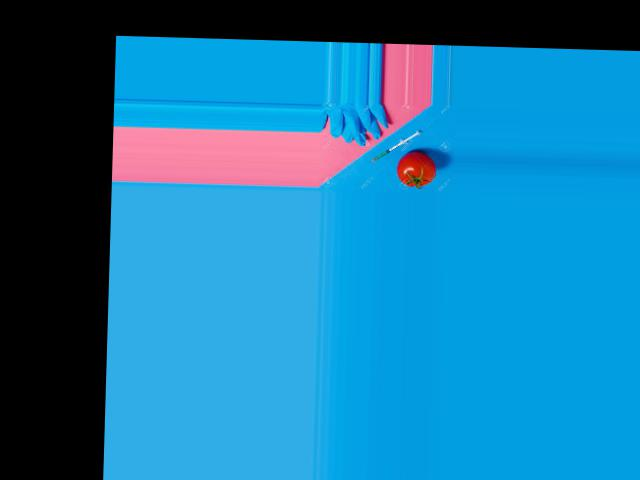tomato: (396, 150, 435, 186)
